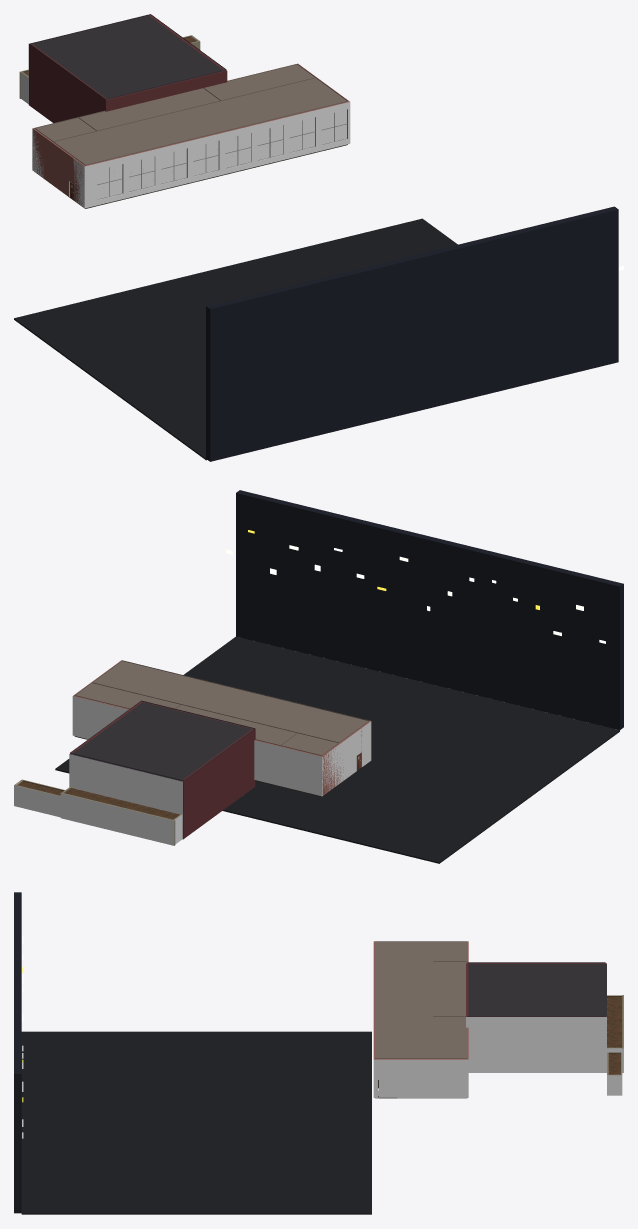
The picture shows the model from 3 angles, top to bottom: view 1: azimuth 30°, elevation 25°; view 2: azimuth 150°, elevation 25°; view 3: azimuth 270°, elevation 25°; orthographic projection. The views are drawn at different scales.
Parts seen in each view (by area): view 1: S_night_city, S_night_ground, S_ceiling, COL, S_acoustic_dark, S_acoustic, S_wall_kino, S_steel_dark; view 2: S_night_city, S_night_ground, COL, S_ceiling, S_acoustic_dark, S_acoustic, S_concrete_smooth, S_wall_kino; view 3: S_night_ground, COL, S_ceiling, S_acoustic_dark, S_night_city, S_concrete_smooth.
Part boxes in pixels (left/top/right/bottom): S_night_city: left=206, top=206, right=618, bottom=461; S_night_ground: left=14, top=218, right=457, bottom=460; S_ceiling: left=34, top=64, right=347, bottom=165; COL: left=21, top=36, right=350, bottom=208; S_acoustic_dark: left=29, top=14, right=226, bottom=105; S_acoustic: left=29, top=15, right=227, bottom=122; S_wall_kino: left=32, top=63, right=349, bottom=205; S_steel_dark: left=68, top=109, right=347, bottom=200; S_night_city: left=236, top=490, right=623, bottom=729; S_night_ground: left=55, top=636, right=619, bottom=863; COL: left=14, top=696, right=371, bottom=845; S_ceiling: left=74, top=660, right=368, bottom=755; S_acoustic_dark: left=70, top=700, right=255, bottom=839; S_acoustic: left=70, top=701, right=255, bottom=838; S_concrete_smooth: left=17, top=780, right=179, bottom=819; S_wall_kino: left=73, top=660, right=370, bottom=795; S_night_ground: left=21, top=1031, right=371, bottom=1214; COL: left=373, top=1017, right=623, bottom=1098; S_ceiling: left=375, top=941, right=467, bottom=1058; S_acoustic_dark: left=467, top=962, right=606, bottom=1016; S_night_city: left=14, top=892, right=21, bottom=1213; S_concrete_smooth: left=607, top=996, right=622, bottom=1074.
Size of what is drawn, in the model's own units: 57.34 by 20.2 by 79.4.
Materials: 84 (37 with a texture image).
